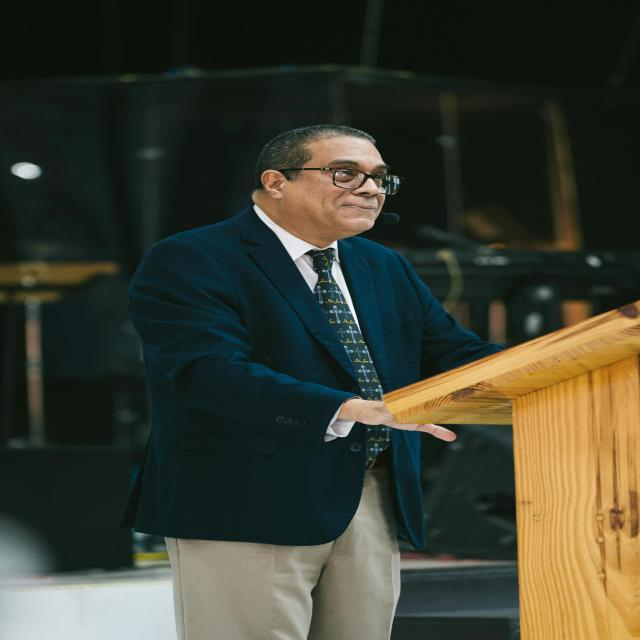human: (108, 115, 528, 640)
